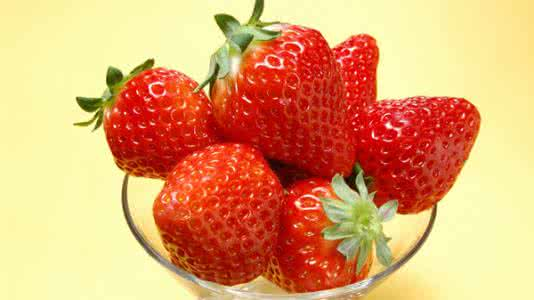strawberry: (204, 13, 354, 171), (159, 142, 280, 281), (349, 96, 488, 208), (266, 166, 391, 281), (88, 68, 225, 166), (332, 28, 382, 103)
